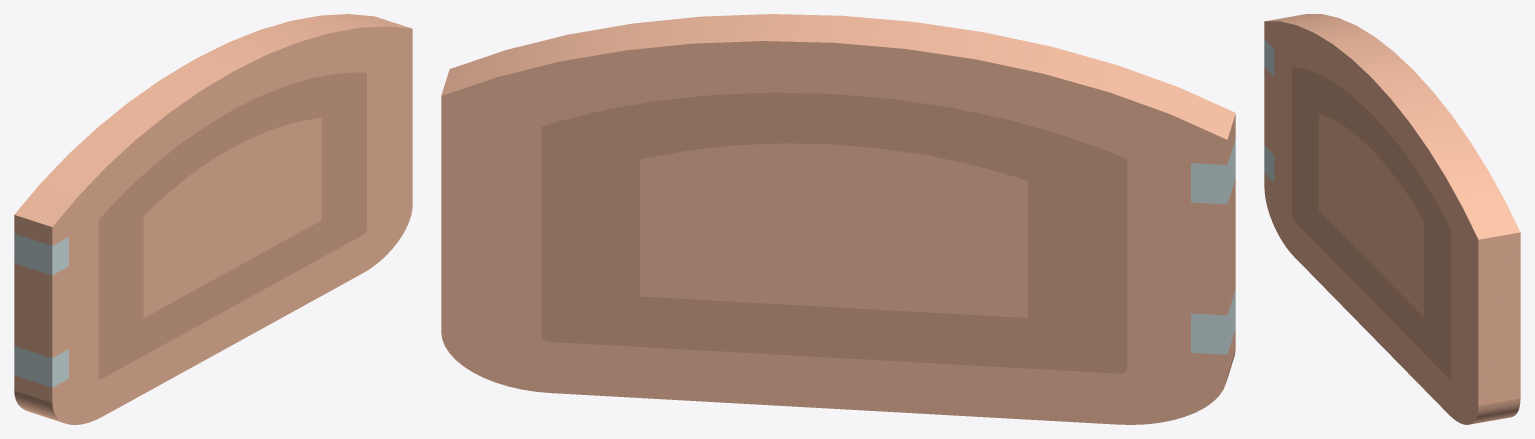
The model's file is crafted-gate-leaf-1.glb.
3 views of the same model, side by side, from view 1: azimuth 30°, elevation 25°; view 2: azimuth 150°, elevation 25°; view 3: azimuth 270°, elevation 25° (orthographic). The views are drawn at different scales.
Parts seen in each view (by area): view 1: leaf-0, leaf-2, leaf-1; view 2: leaf-0, leaf-2, leaf-1; view 3: leaf-0, leaf-2, leaf-1.
Boxes of the visible parts, x1,y1,x2,y2 form: leaf-0: [14, 14, 412, 424]; leaf-2: [98, 72, 366, 379]; leaf-1: [14, 233, 68, 387]; leaf-0: [441, 14, 1235, 424]; leaf-2: [541, 92, 1127, 373]; leaf-1: [1191, 139, 1235, 354]; leaf-0: [1264, 14, 1520, 424]; leaf-2: [1291, 67, 1451, 379]; leaf-1: [1264, 39, 1274, 182].
Bounding box in the file's own units: 0.8213 × 0.438 × 0.3938.
